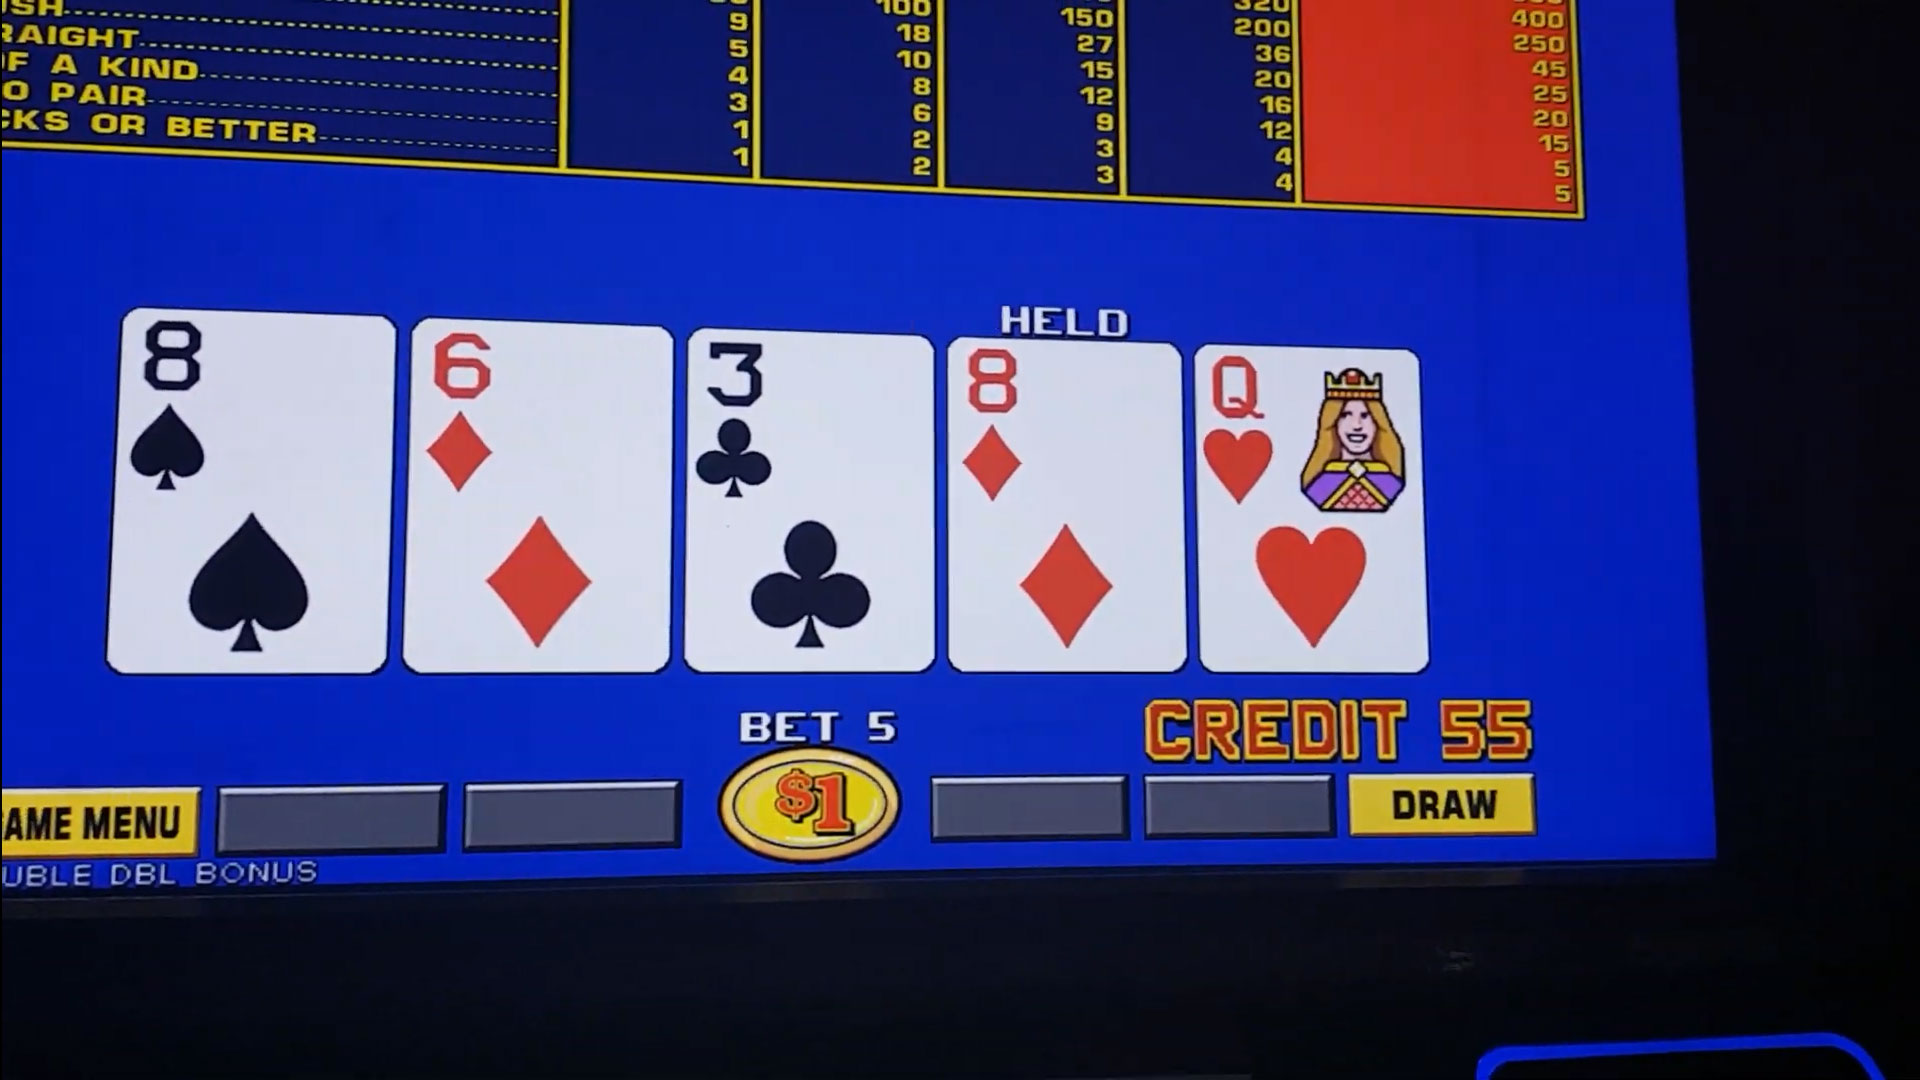C3: (691, 338, 932, 508)
D6: (418, 334, 665, 498)
D8: (953, 349, 1178, 514)
HQ: (1200, 353, 1418, 514)
S8: (128, 323, 389, 498)
